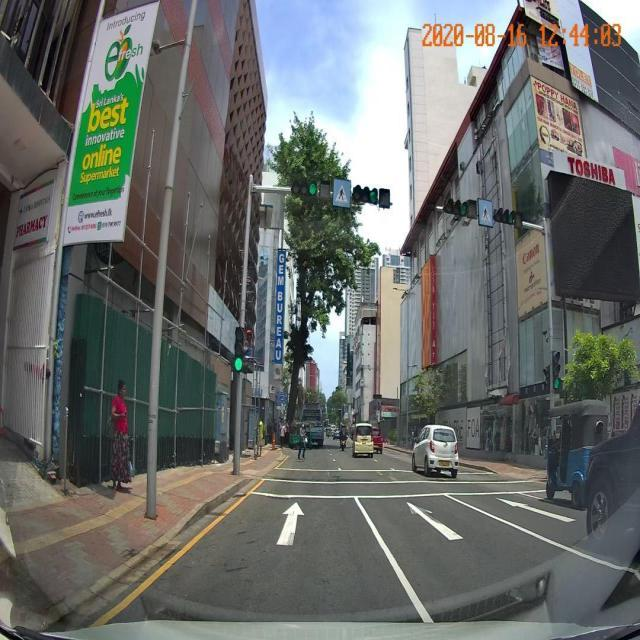Strelka vpered: (406, 502, 464, 541), (496, 498, 577, 523), (276, 501, 305, 546)
